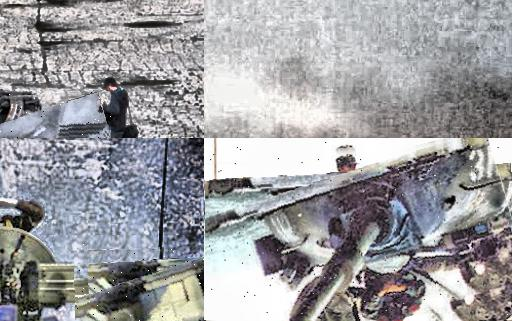tanks: (206, 140, 512, 321), (75, 255, 205, 321), (1, 231, 86, 321), (1, 92, 111, 139)
